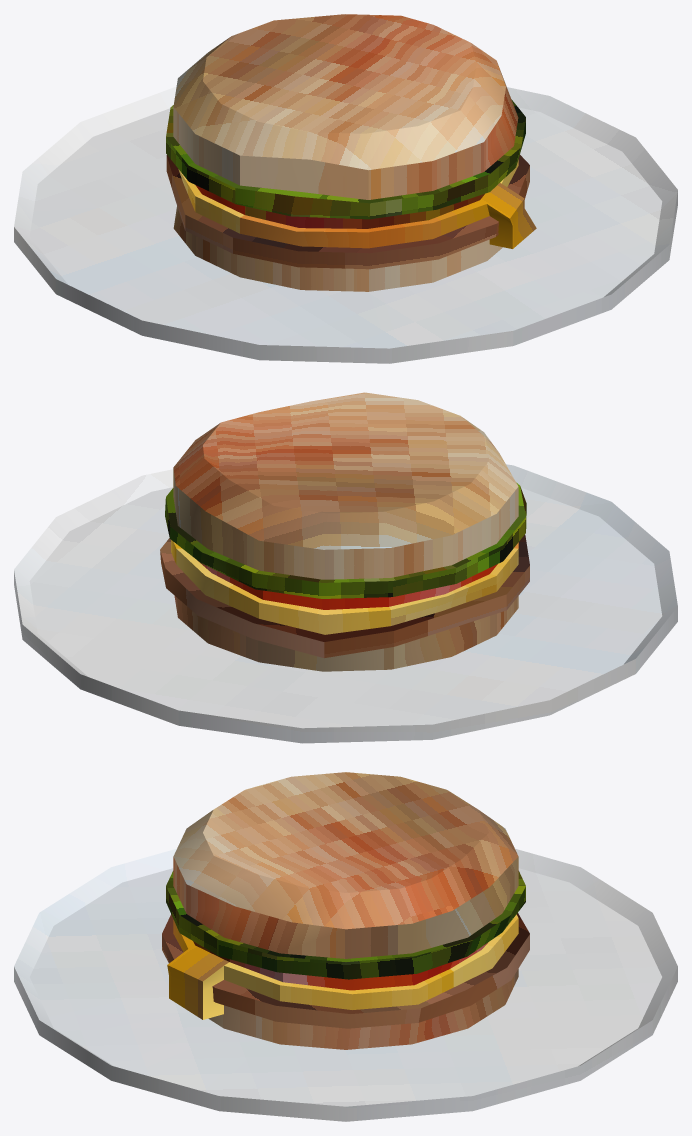
Rendered from Burger.fbx.
The picture shows the model from 3 angles, top to bottom: view 1: azimuth 30°, elevation 25°; view 2: azimuth 150°, elevation 25°; view 3: azimuth 270°, elevation 25°; orthographic projection.
Parts seen in each view (by area): view 1: Burger; view 2: Burger; view 3: Burger.
Boxes of the visible parts, left/top/right/bottom form: Burger: left=14, top=14, right=677, bottom=363; Burger: left=14, top=392, right=677, bottom=743; Burger: left=14, top=772, right=677, bottom=1121.
Bounding box in the file's own units: 120 × 30.09 × 120.
